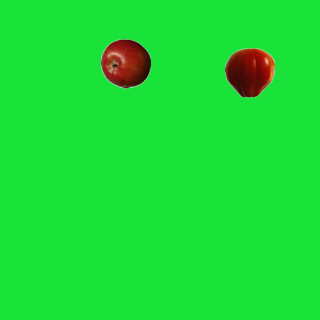Apple Braeburn: (100, 38, 150, 88)
Tomato 1: (224, 47, 274, 97)
